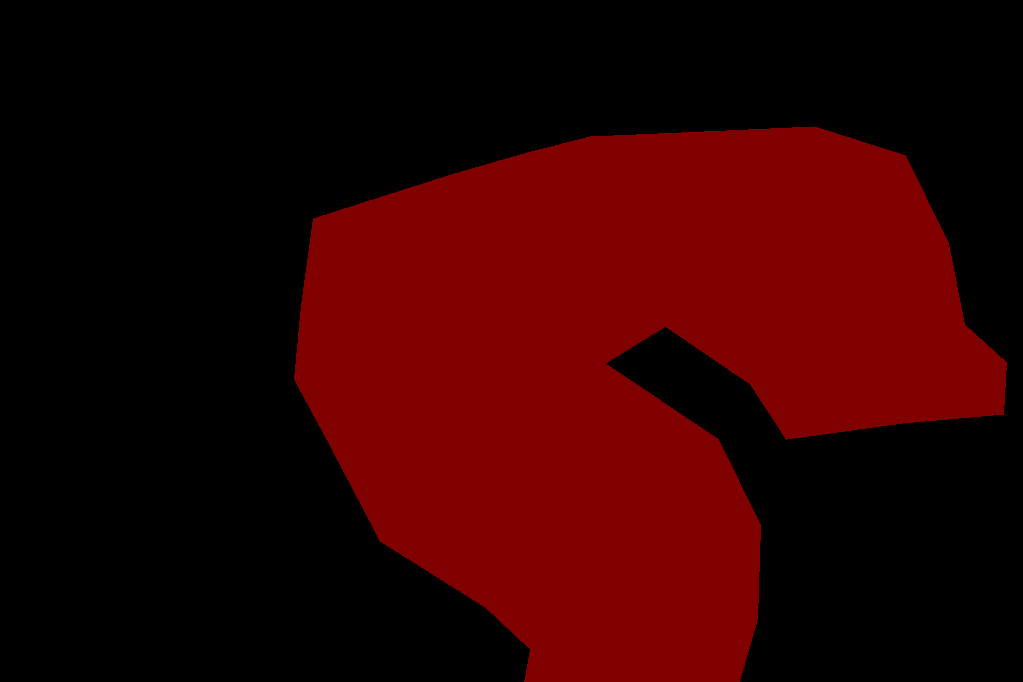fire: (294, 126, 1006, 682)
